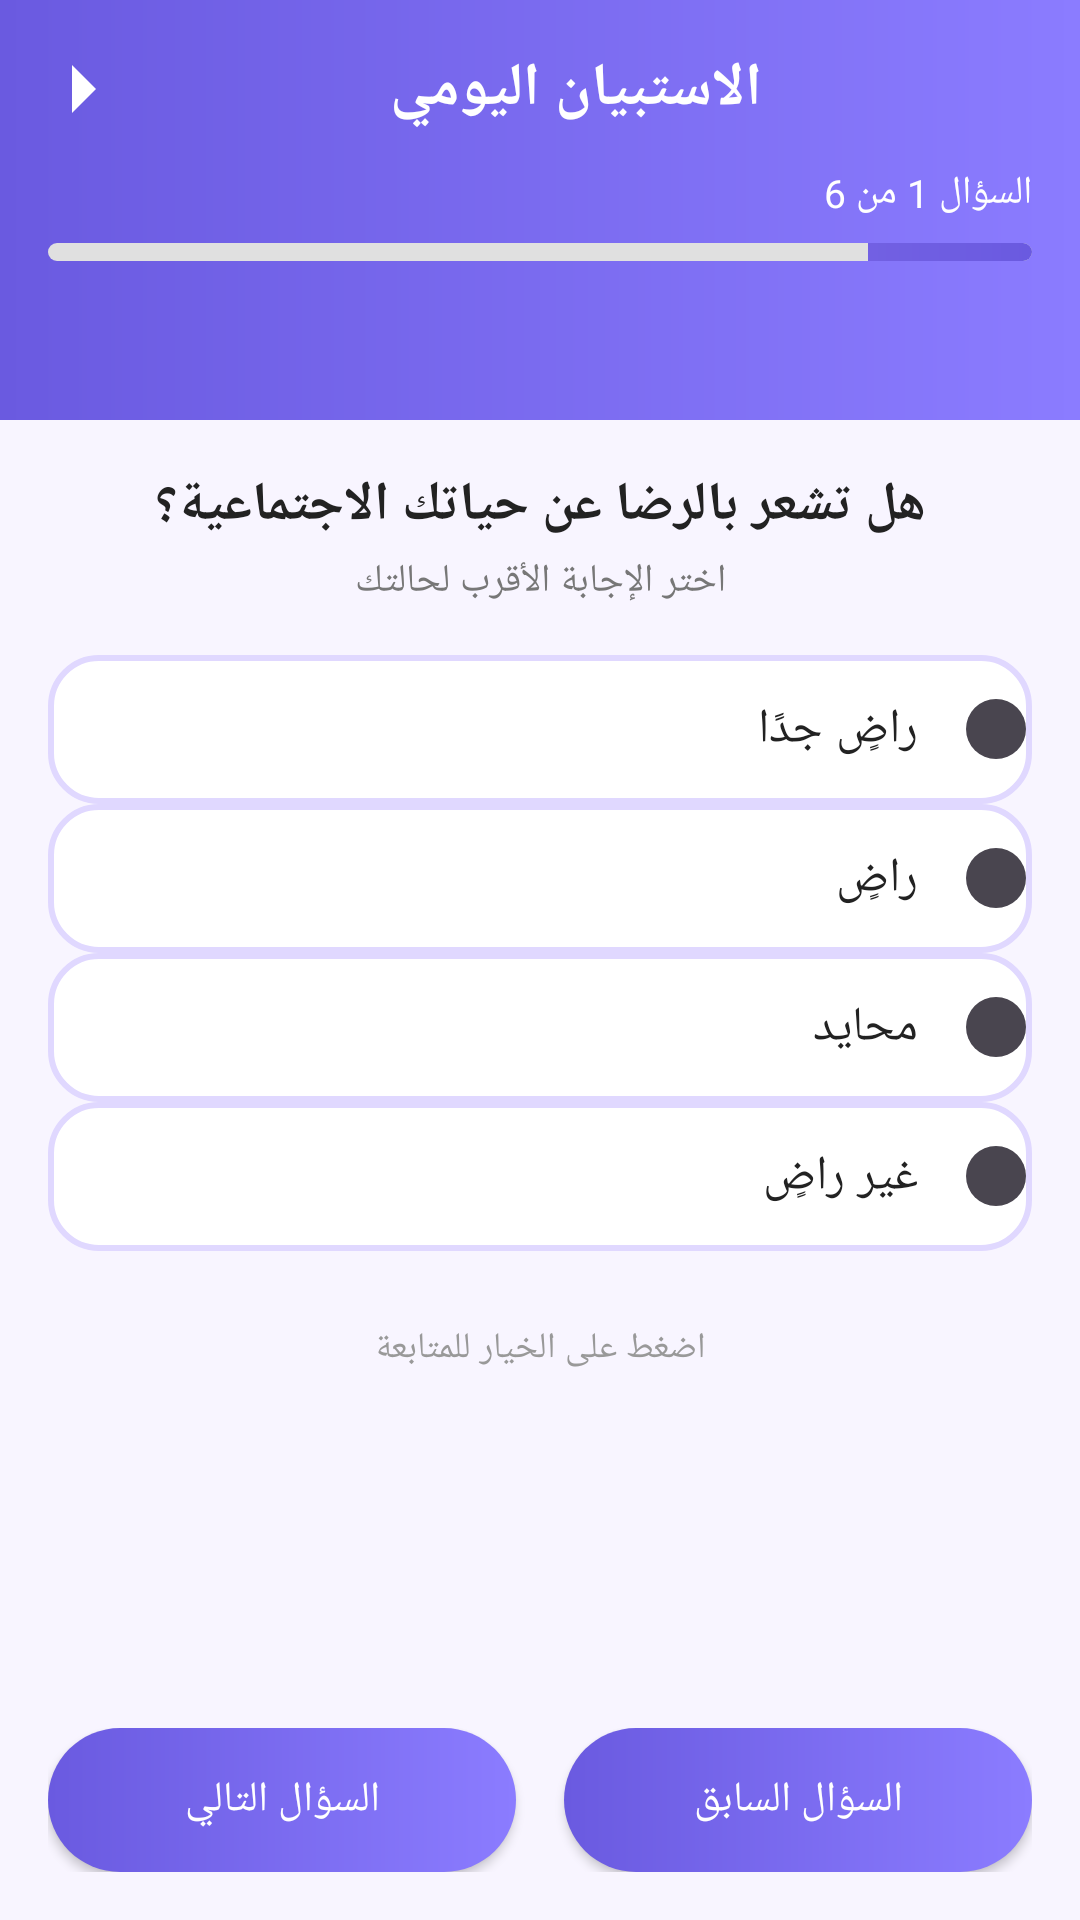

Locate icon controls on the screen. Image size 1080px x 1920px, boxes as [left=x1, top=y1, right=x2, bottom=y2].
arrow forward: [left=72, top=65, right=96, bottom=113]
